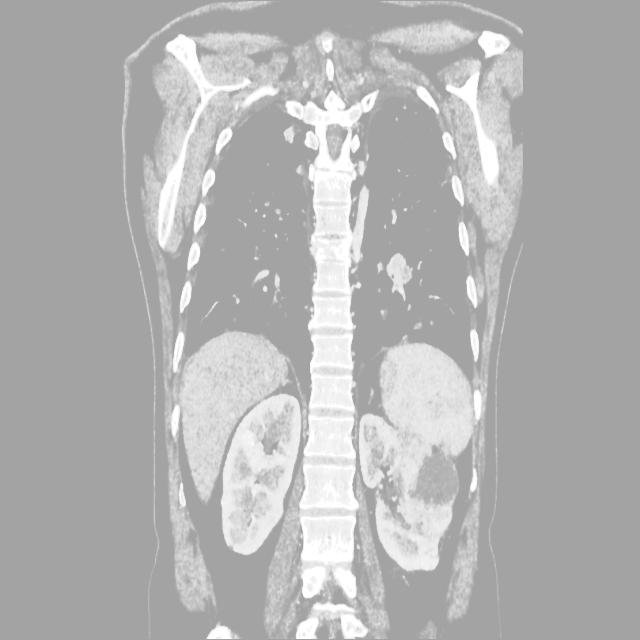TUMOR: (103, 346, 551, 550)
